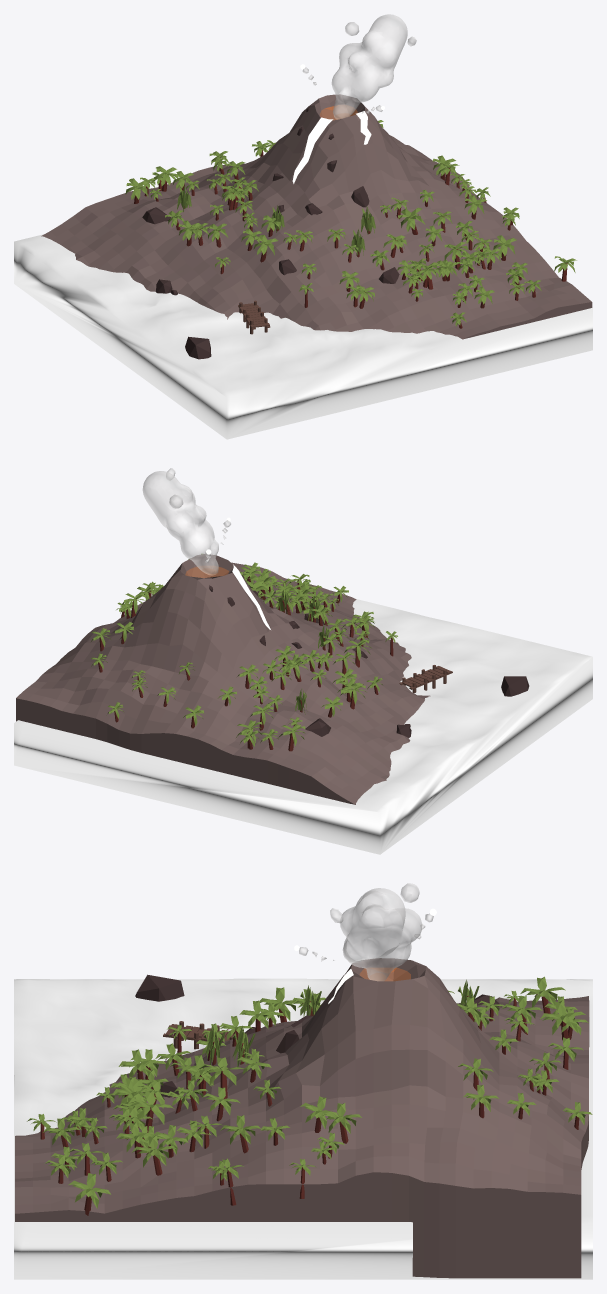
File: island2.gltf
The picture shows the model from 3 angles, top to bottom: view 1: azimuth 30°, elevation 25°; view 2: azimuth 150°, elevation 25°; view 3: azimuth 270°, elevation 25°; orthographic projection. The views are drawn at different scales.
Parts seen in each view (by area): view 1: Plane, Cube, Mball.021, Plane.001; view 2: Plane, Cube, Mball.021; view 3: Plane, Cube, Mball.021, Cylinder.001 (×8), Icosphere.011.
Boxes of the visible parts, left/top/right/bottom form: Plane: left=41, top=94, right=592, bottom=339; Cube: left=14, top=234, right=592, bottom=439; Mball.021: left=302, top=14, right=416, bottom=119; Plane.001: left=292, top=117, right=333, bottom=183; Plane: left=16, top=554, right=430, bottom=804; Cube: left=14, top=599, right=592, bottom=854; Mball.021: left=142, top=468, right=230, bottom=575; Plane: left=15, top=958, right=589, bottom=1278; Cube: left=14, top=978, right=592, bottom=1279; Mball.021: left=299, top=883, right=433, bottom=981; Cylinder.001 (×8): left=68, top=976, right=585, bottom=1215; Icosphere.011: left=135, top=974, right=184, bottom=1001.
Size of what is drawn, in the model's own units: 17.32 by 11.07 by 16.84.
